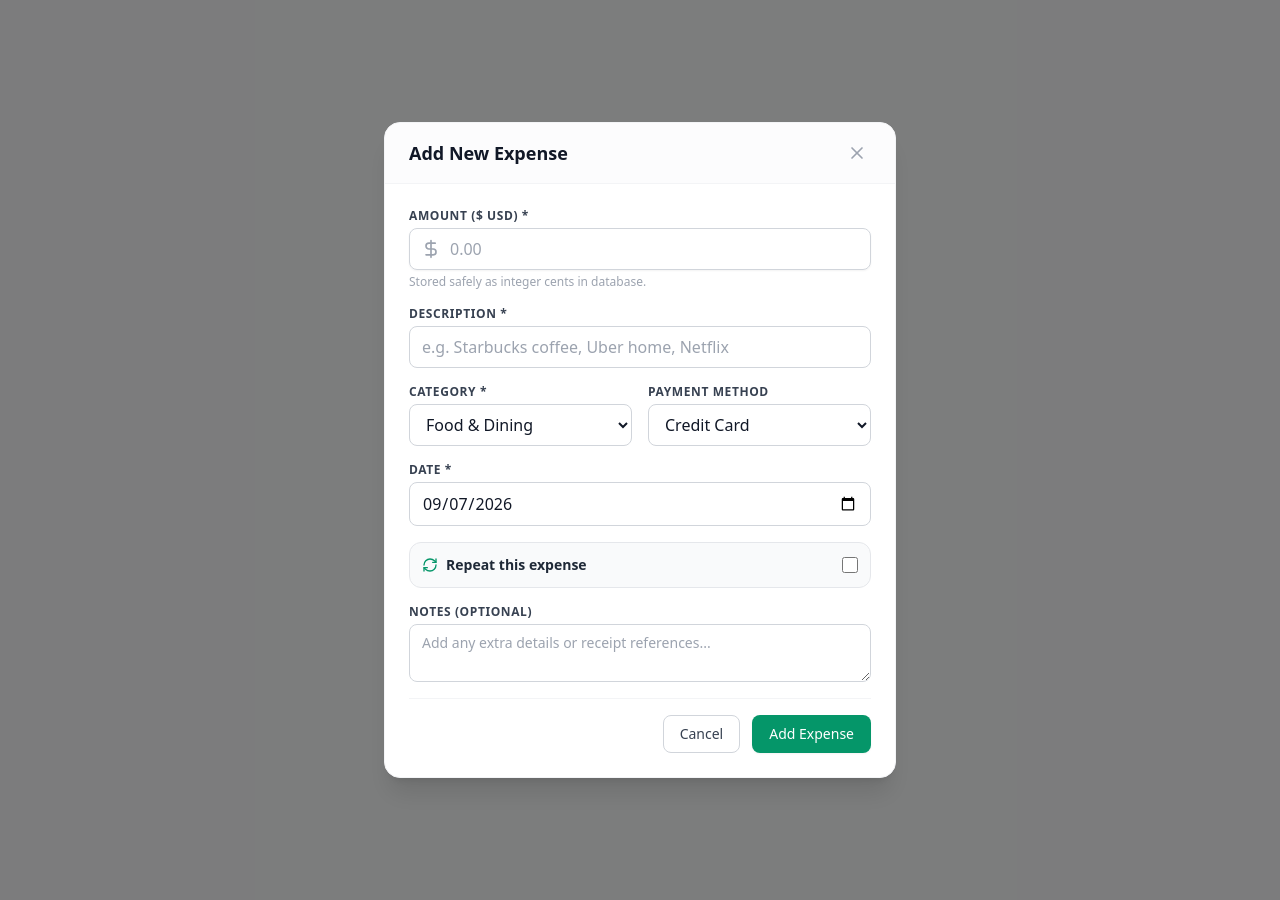
Test: ExpenseModal Component › should hide the suggestion banner when user clicks Dismiss
This screenshot has width=1280, height=900.
Type "Uber ride" into the field labelled "Description *" at (640, 347), box [409,326,871,368]
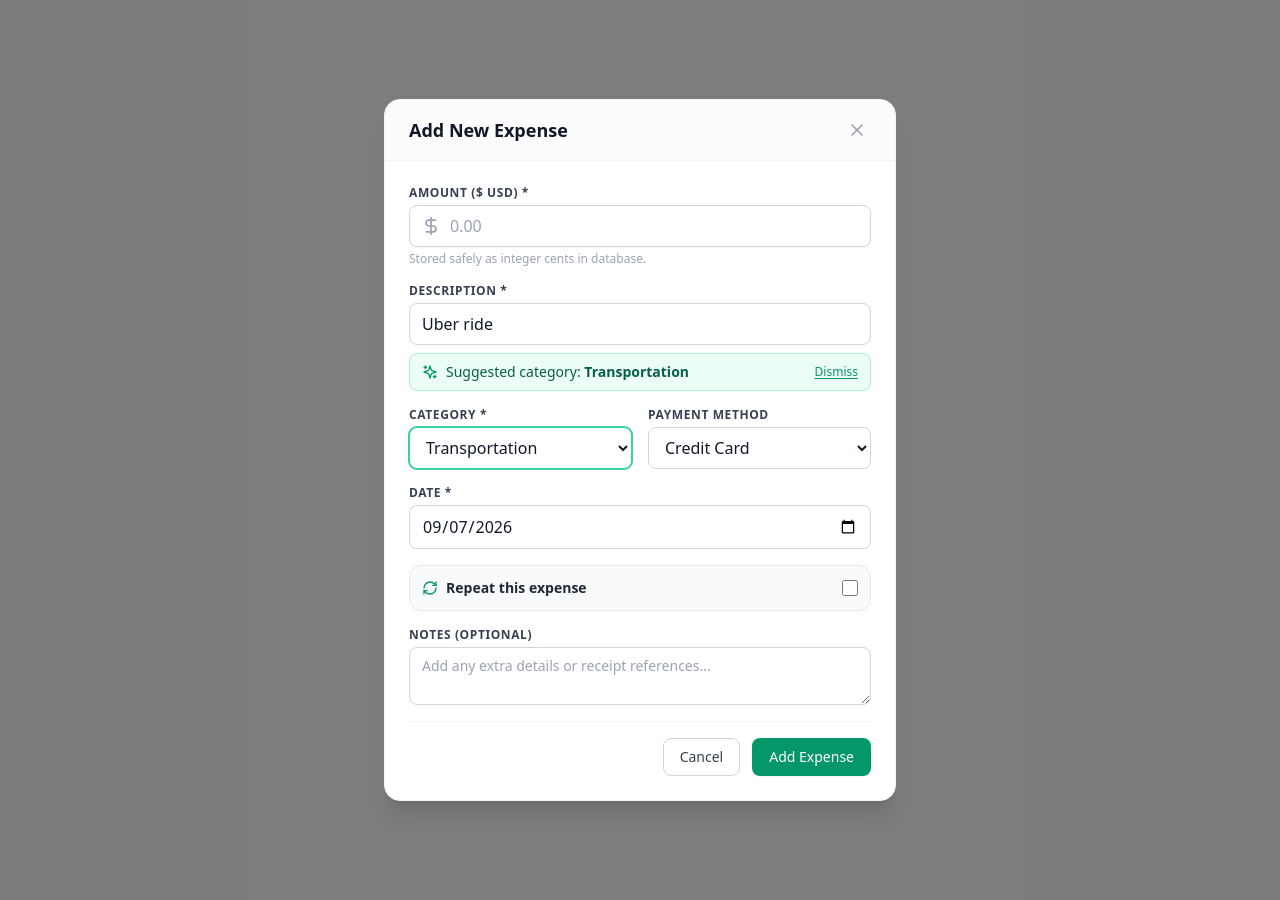
Result: the message "Suggested category: Transportation Dismiss" is shown at [409,353,871,391]
Click the button with aria-label "dismiss suggestion" at (836, 372), box [815,364,858,380]
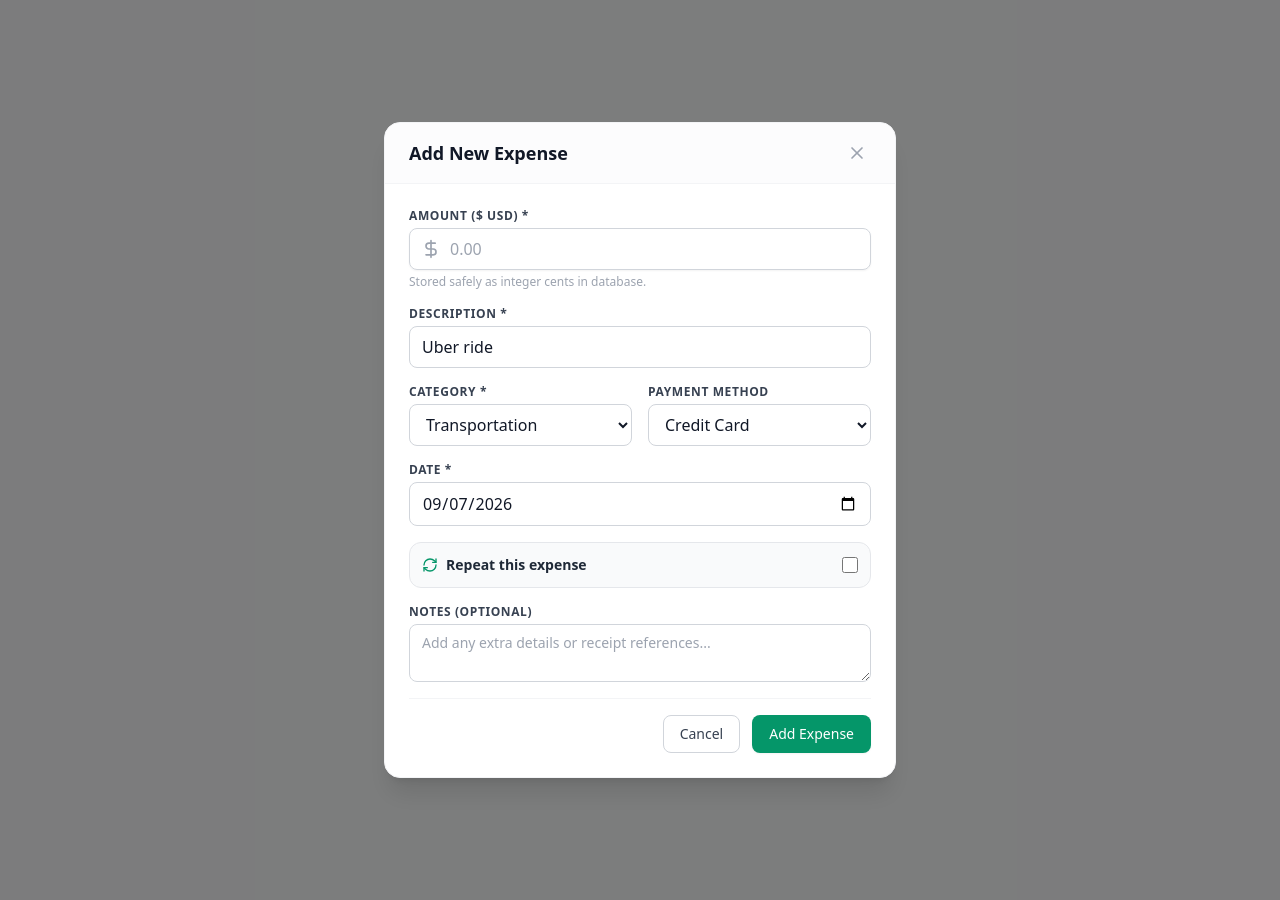
Result: the message "Suggested category: Transportation Dismiss" is gone
